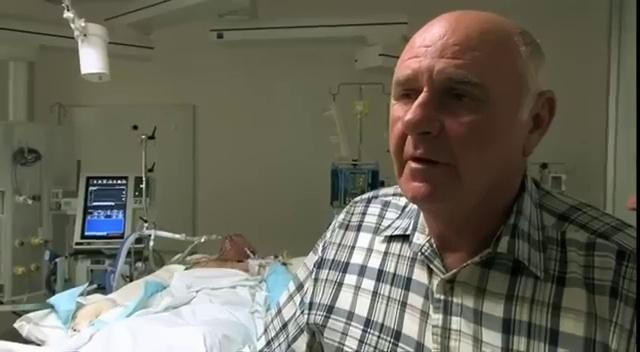others: (244, 6, 634, 352)
patient: (52, 225, 299, 352)
